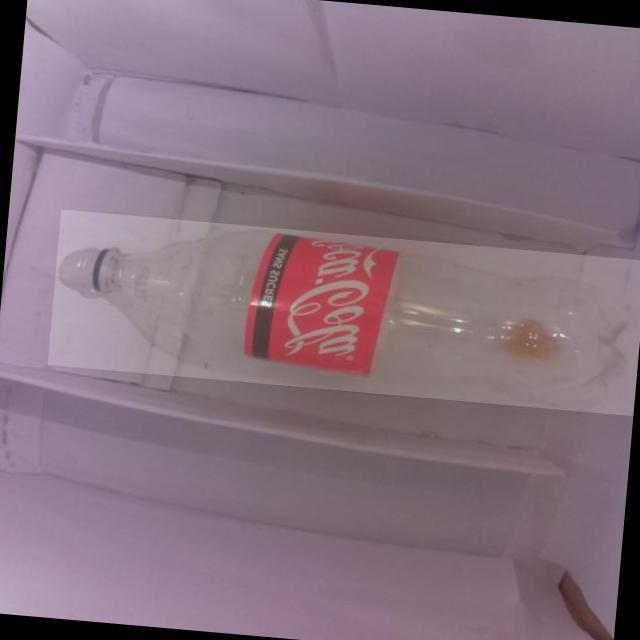good: (47, 208, 640, 415)
